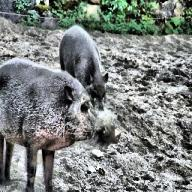boar: (0, 56, 121, 191), (58, 23, 108, 103)
